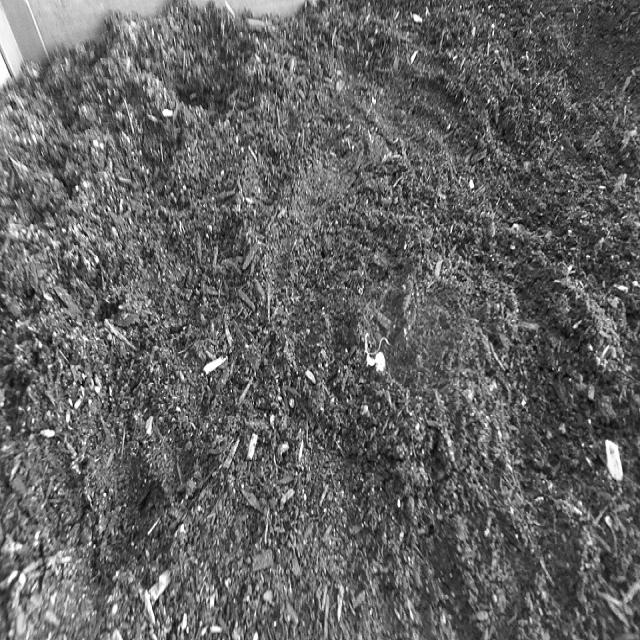Unhealthy: (356, 315, 396, 380)
